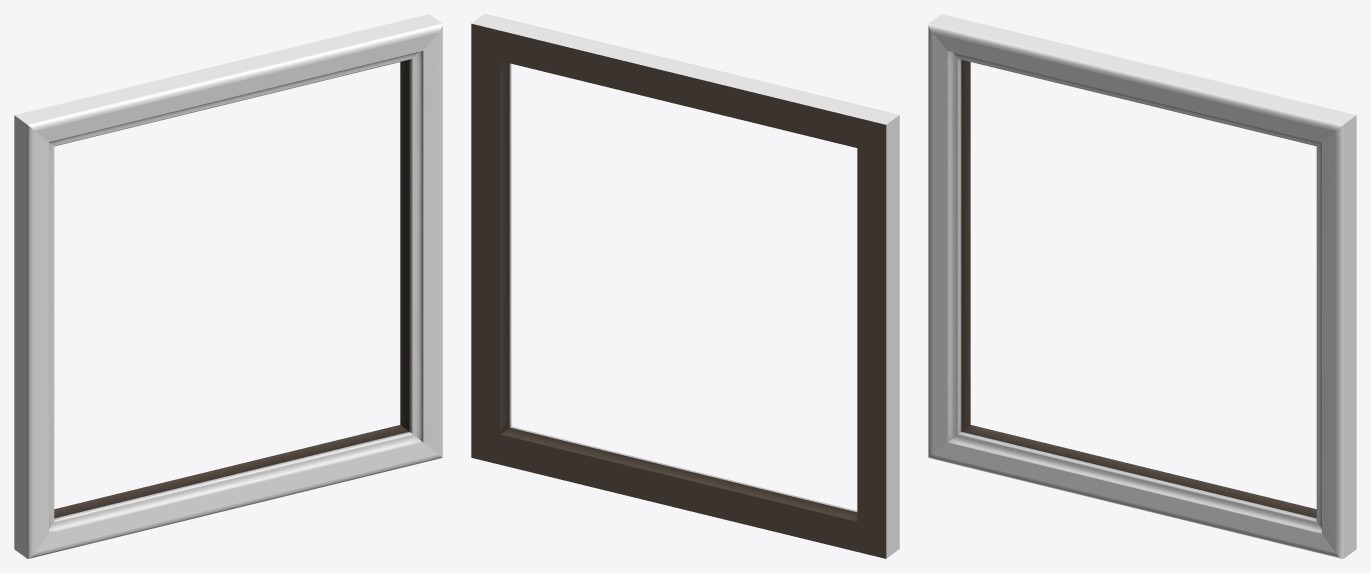
The model's file is 17-dve-fridy.glb.
3 views of the same model, side by side, from view 1: azimuth 30°, elevation 25°; view 2: azimuth 150°, elevation 25°; view 3: azimuth 330°, elevation 25° (orthographic).
Visible parts, largest first — view 1: Frame; view 2: Frame; view 3: Frame.
Part boxes in pixels (bbox=[...]): Frame: bbox=[14, 14, 442, 558]; Frame: bbox=[471, 14, 899, 558]; Frame: bbox=[928, 14, 1356, 558].
Size of the model in its own units: 1.14 by 1.14 by 0.0722.
